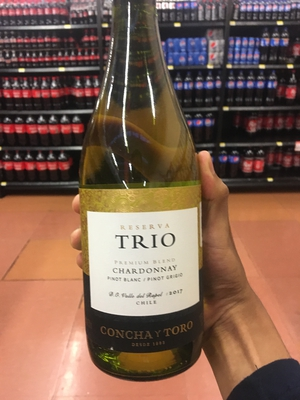trio chardonnay: (69, 12, 220, 373)
